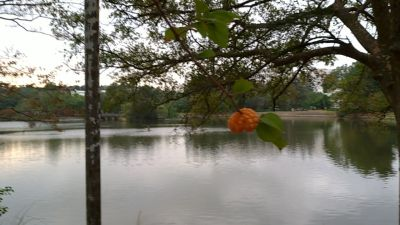eggs: (228, 106, 261, 133)
